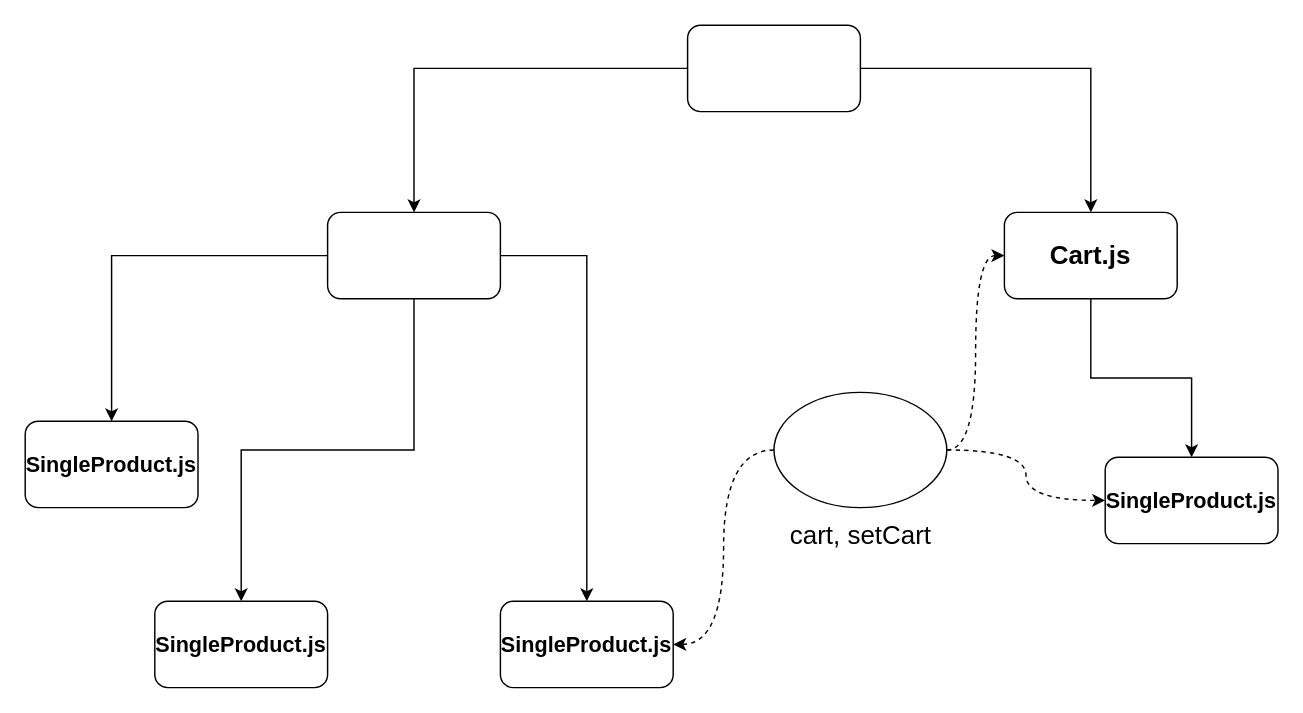
This 1303x713 diagram has some shape labels left out. The shapes that lost their labels are listed below. From the top down, each one's centre as x and y in pixels, then its label:
At (x=773, y=68): "App.js".
At (x=413, y=255): "Products.js".
At (x=860, y=449): "Context".
